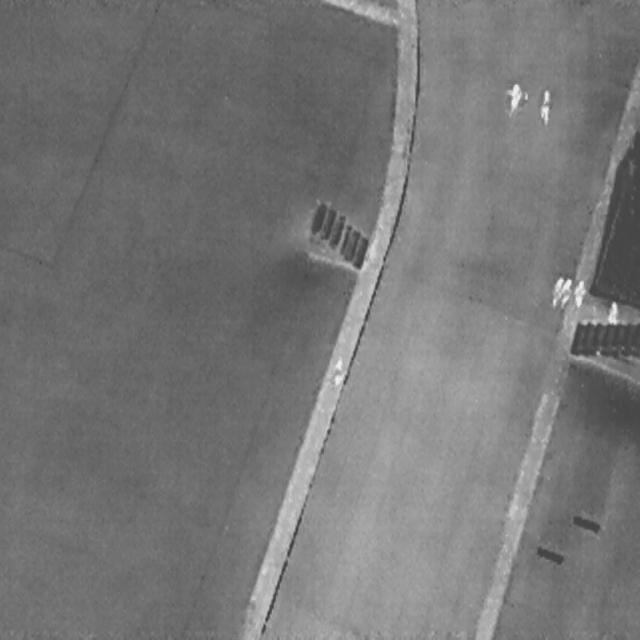Person: (569, 272, 588, 312), (329, 353, 347, 388), (507, 76, 522, 115), (549, 271, 564, 309), (538, 85, 552, 125), (559, 275, 573, 307), (606, 298, 620, 328)
